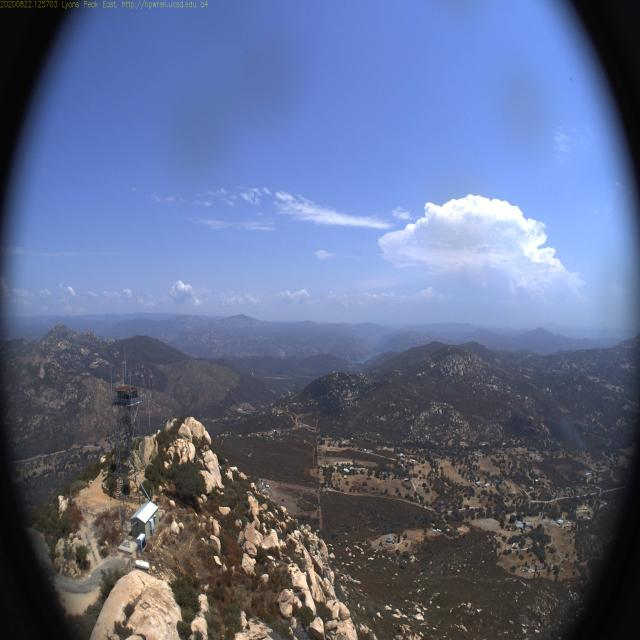smoke: (554, 404, 594, 464)
